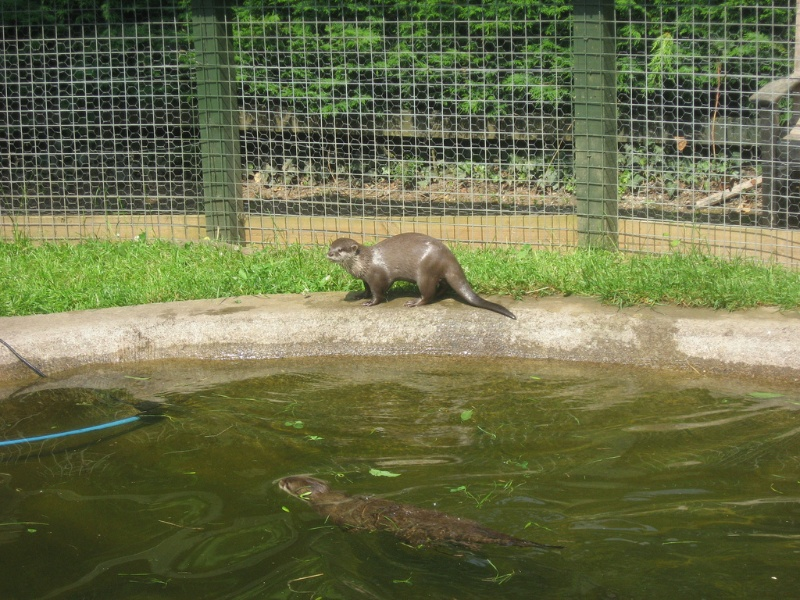minkish: (267, 475, 569, 566), (326, 229, 521, 326)
